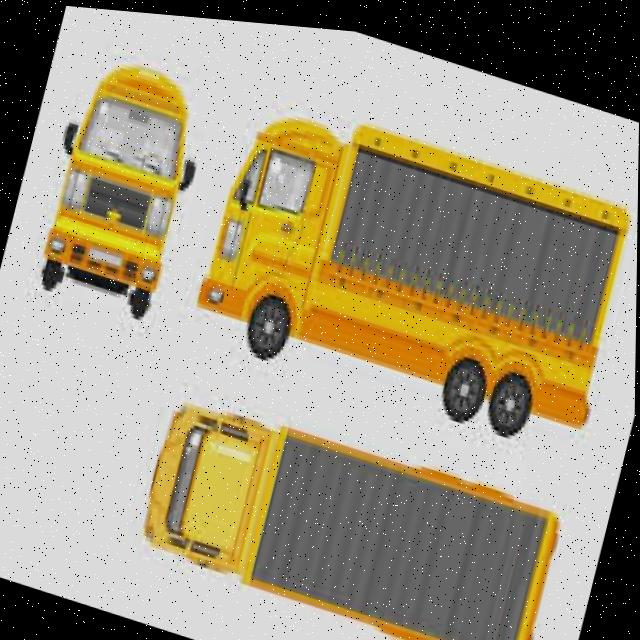truck: (180, 69, 639, 452), (130, 377, 571, 640), (31, 42, 211, 324)
